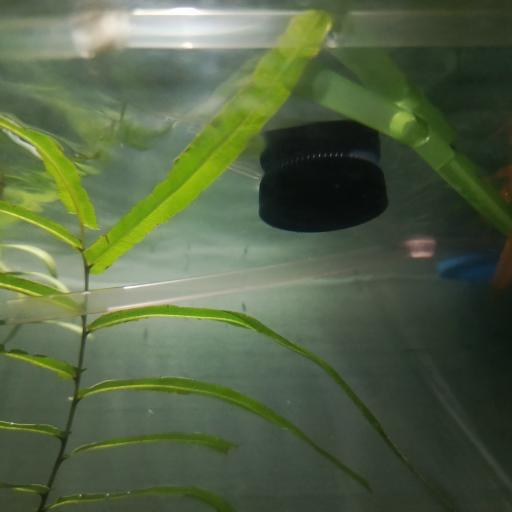bottle_cap: (259, 159, 389, 231), (433, 251, 493, 281)
plastic_straw: (0, 235, 484, 321), (318, 68, 512, 235), (0, 8, 512, 58)
